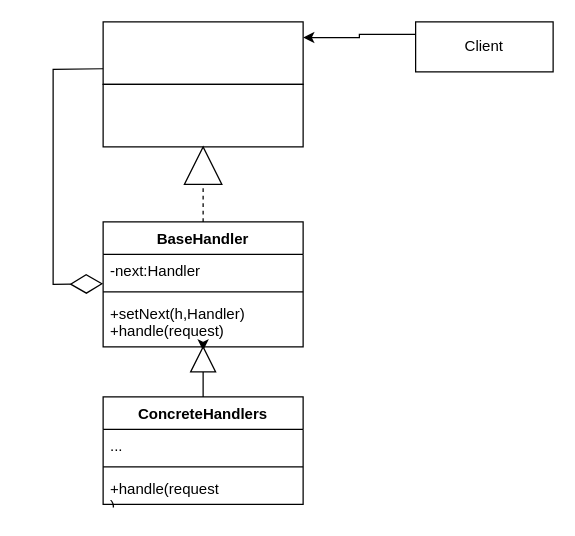
Some shapes in this 575 by 536 pixel diagram are drawn without their labels. Here are the shapes that lost their labels. From the top down, the centre of each, then its label:
At [202,52]: "«interface» Handler".
At [202,115]: "+setNext(h:Handler) +handle(request )".
